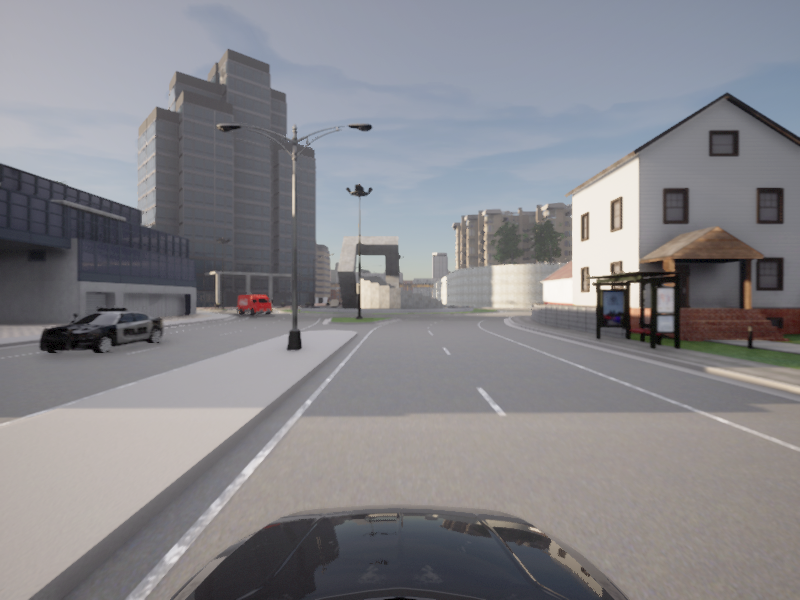vehicle: (23, 306, 170, 358)
